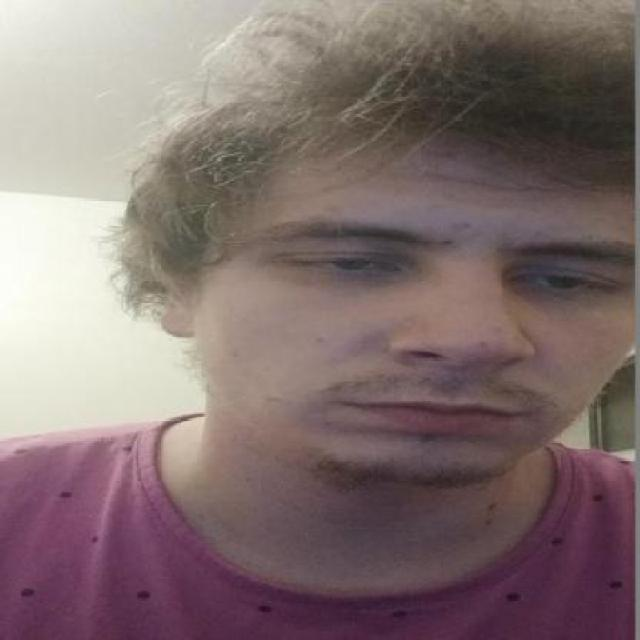awake: (280, 245, 402, 282), (512, 262, 623, 302)
